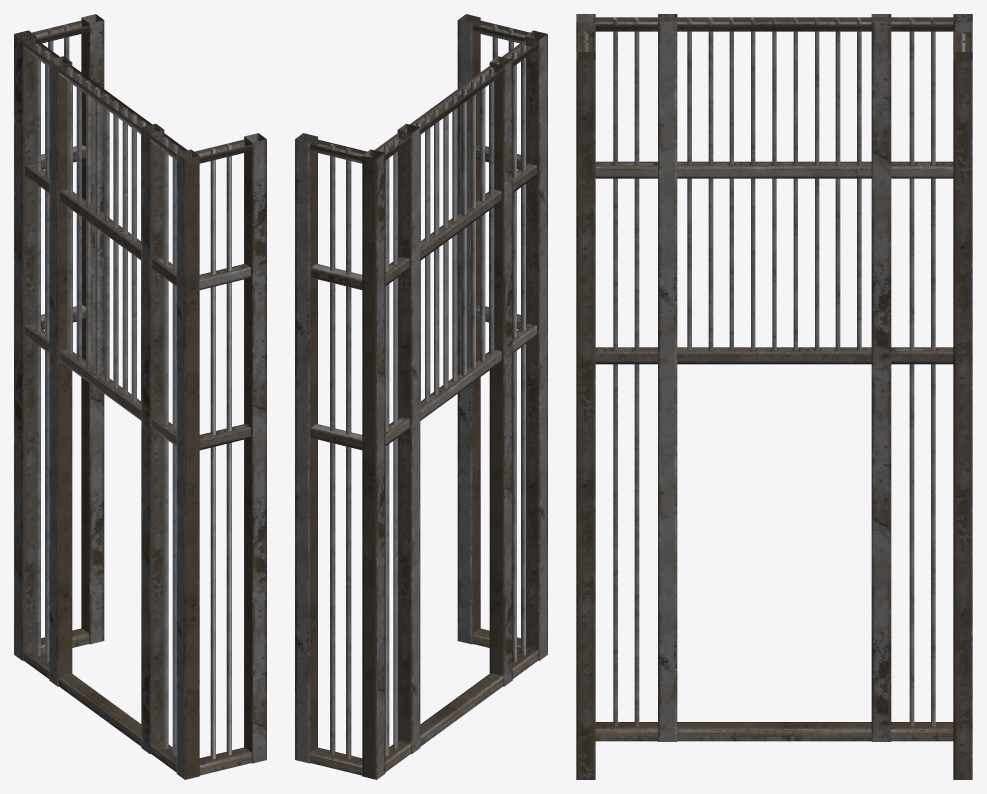
Rendered from SM_Jail01_1_LOD0.glb.
3 renders of one model, left to right at view 1: azimuth 30°, elevation 25°; view 2: azimuth 150°, elevation 25°; view 3: azimuth 270°, elevation 25°, orthographic. The views are drawn at different scales.
Visible parts, largest first — view 1: SM_Jail01_1_LOD0; view 2: SM_Jail01_1_LOD0; view 3: SM_Jail01_1_LOD0.
Boxes of the visible parts, x1,y1,x2,y2 form: SM_Jail01_1_LOD0: (14, 14, 266, 779); SM_Jail01_1_LOD0: (295, 14, 547, 779); SM_Jail01_1_LOD0: (576, 14, 972, 779).
Size of the model in its own units: 0.5523 by 4 by 2.
Materials: 1 (1 with a texture image).
